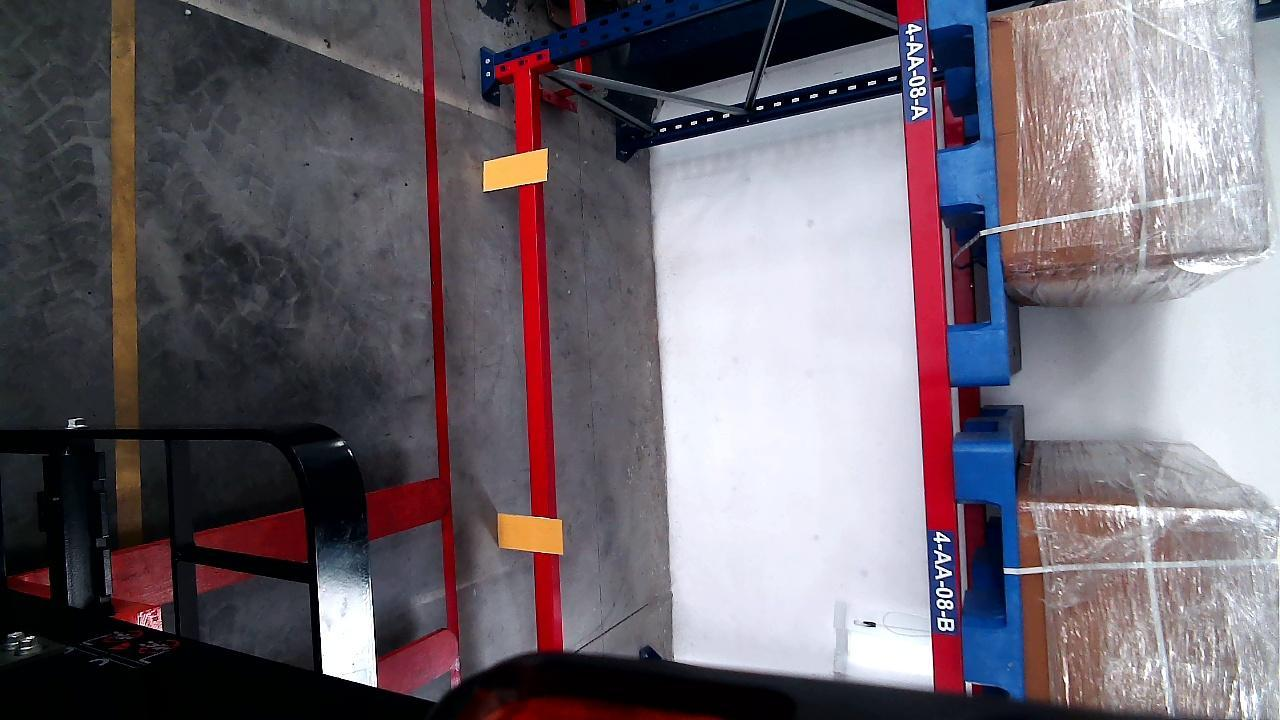red_line: (420, 1, 461, 689)
yellow_line: (109, 0, 140, 447)
